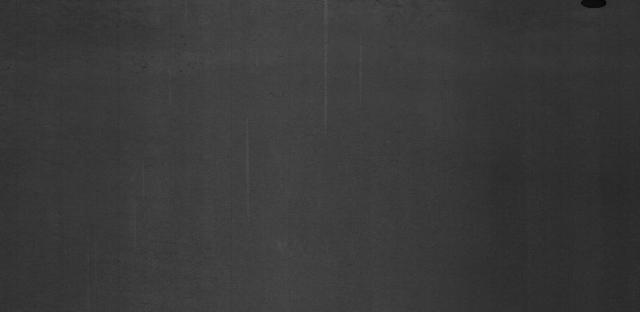punching_hole: (579, 0, 609, 12)
